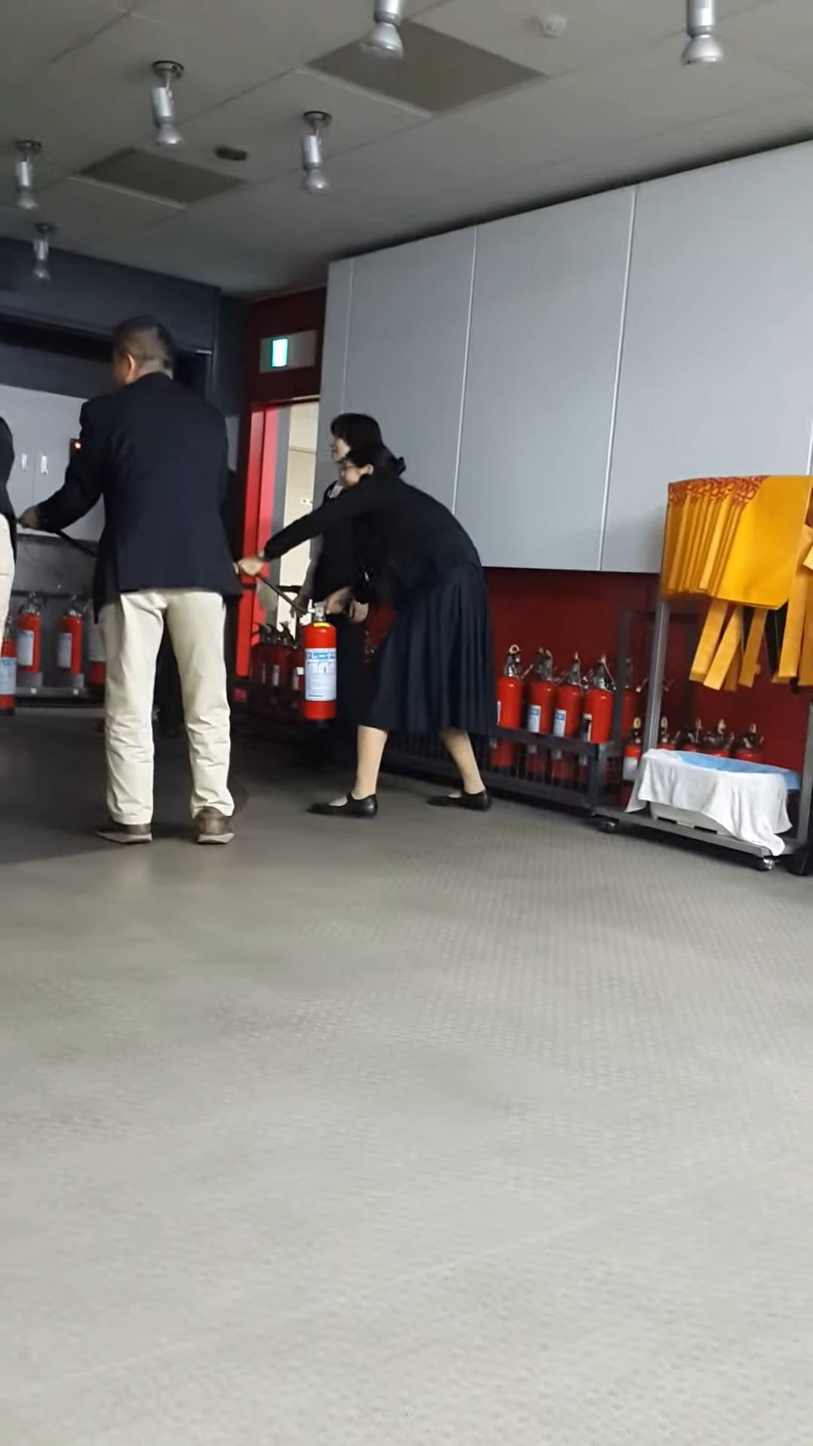FireExtinguisher: (282, 588, 351, 733), (585, 660, 656, 768), (479, 645, 535, 777), (50, 584, 95, 699), (553, 656, 588, 796), (526, 648, 573, 751), (0, 615, 35, 727), (17, 588, 46, 717)
